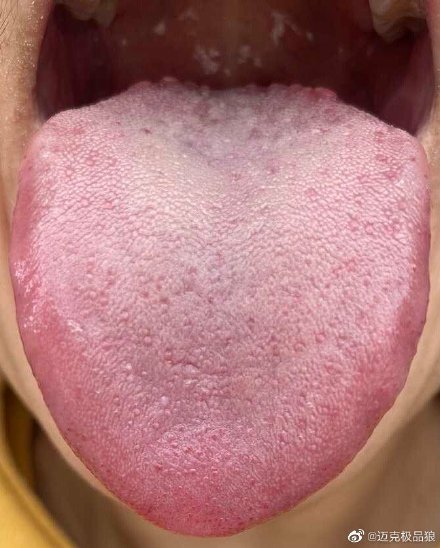baitaishe: (10, 75, 432, 537)
